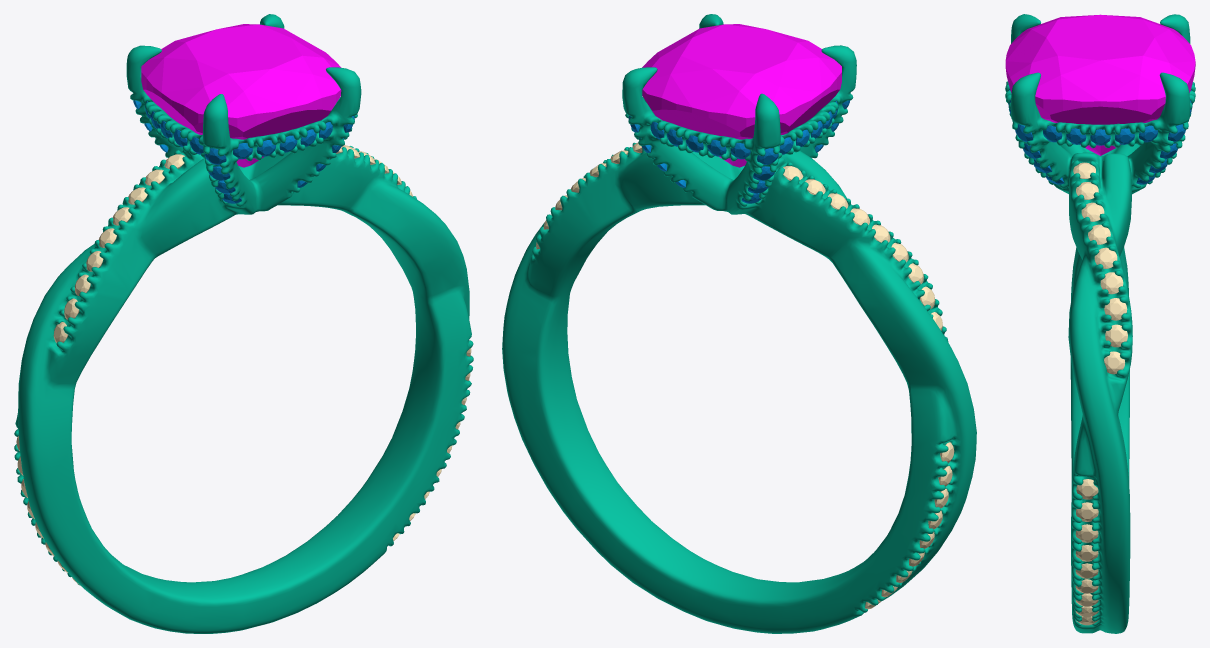
Rendered from BE1D1234_CU_200ct_RENDER.glb.
3 views of the same model, side by side, from view 1: azimuth 30°, elevation 25°; view 2: azimuth 150°, elevation 25°; view 3: azimuth 270°, elevation 25° (orthographic).
Parts seen in each view (by area): view 1: Metal 01, CS_Diamond_Cushion; view 2: Metal 01, CS_Diamond_Cushion; view 3: Metal 01, CS_Diamond_Cushion, Diamond_Round_Gem_SH.025, Diamond_Round_Gem_SH.024, Diamond_Round_Gem_SH.023, Diamond_Round_Gem_SH.026, Diamond_Round_Gem_SH.022, Diamond_Round_Gem_SH.021, Diamond_Round_Gem_SH.035, Diamond_Round_Gem_SH.034, Diamond_Round_Gem_SH.020, Diamond_Round_Gem_SH.033 (+1 smaller).
Boxes of the visible parts, x1=… form: Metal 01: x1=14, y1=14, x2=473, y2=633; CS_Diamond_Cushion: x1=141, y1=24, x2=341, y2=167; Metal 01: x1=502, y1=14, x2=976, y2=633; CS_Diamond_Cushion: x1=642, y1=24, x2=841, y2=167; Metal 01: x1=1005, y1=14, x2=1195, y2=633; CS_Diamond_Cushion: x1=1005, y1=14, x2=1195, y2=155; Diamond_Round_Gem_SH.025: x1=1105, y1=324, x2=1127, y2=347; Diamond_Round_Gem_SH.024: x1=1104, y1=298, x2=1127, y2=320; Diamond_Round_Gem_SH.023: x1=1100, y1=272, x2=1123, y2=294; Diamond_Round_Gem_SH.026: x1=1104, y1=351, x2=1124, y2=374; Diamond_Round_Gem_SH.022: x1=1094, y1=247, x2=1117, y2=268; Diamond_Round_Gem_SH.021: x1=1088, y1=224, x2=1110, y2=244; Diamond_Round_Gem_SH.035: x1=1076, y1=479, x2=1098, y2=499; Diamond_Round_Gem_SH.034: x1=1076, y1=502, x2=1098, y2=521; Diamond_Round_Gem_SH.020: x1=1081, y1=202, x2=1104, y2=221; Diamond_Round_Gem_SH.033: x1=1075, y1=524, x2=1098, y2=542.
Bounding box in the file's own units: 20.69 × 24.92 × 7.53.
